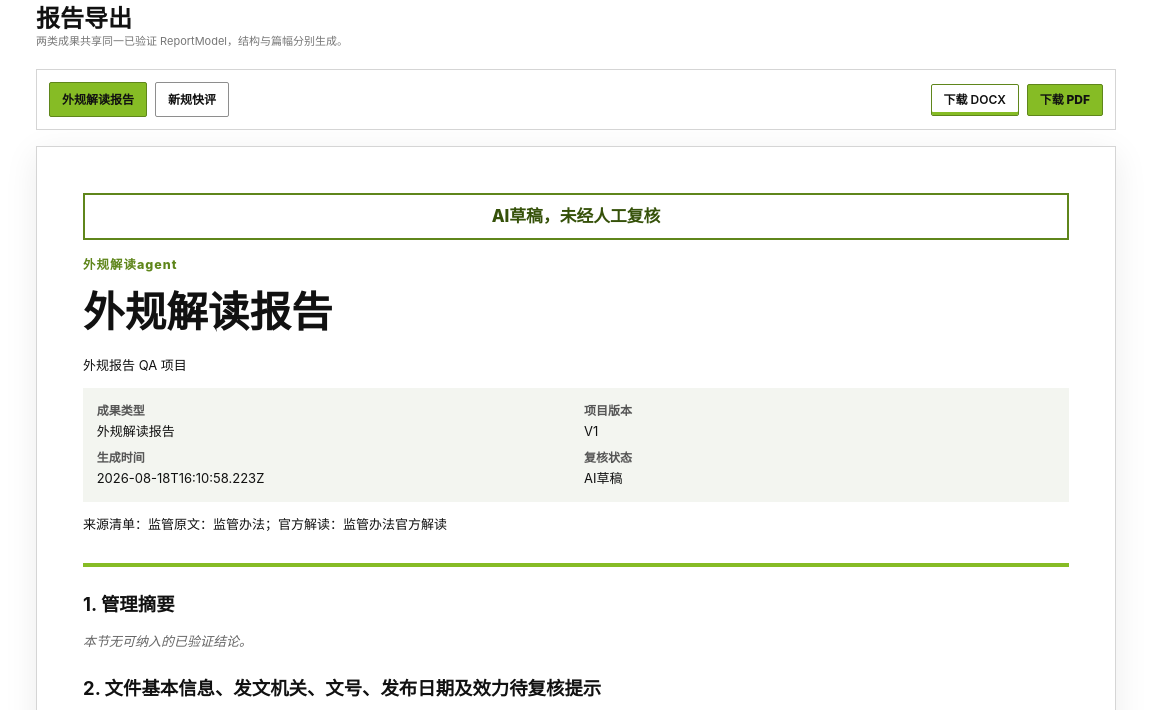
Test: keeps insufficient quick content visible but fails quick export closed
The image size is (1152, 710).
expect the button "下载 DOCX" is enabled: met, box [931, 84, 1019, 116]
Click the tab "新规快评" at (192, 100), box [155, 82, 229, 117]
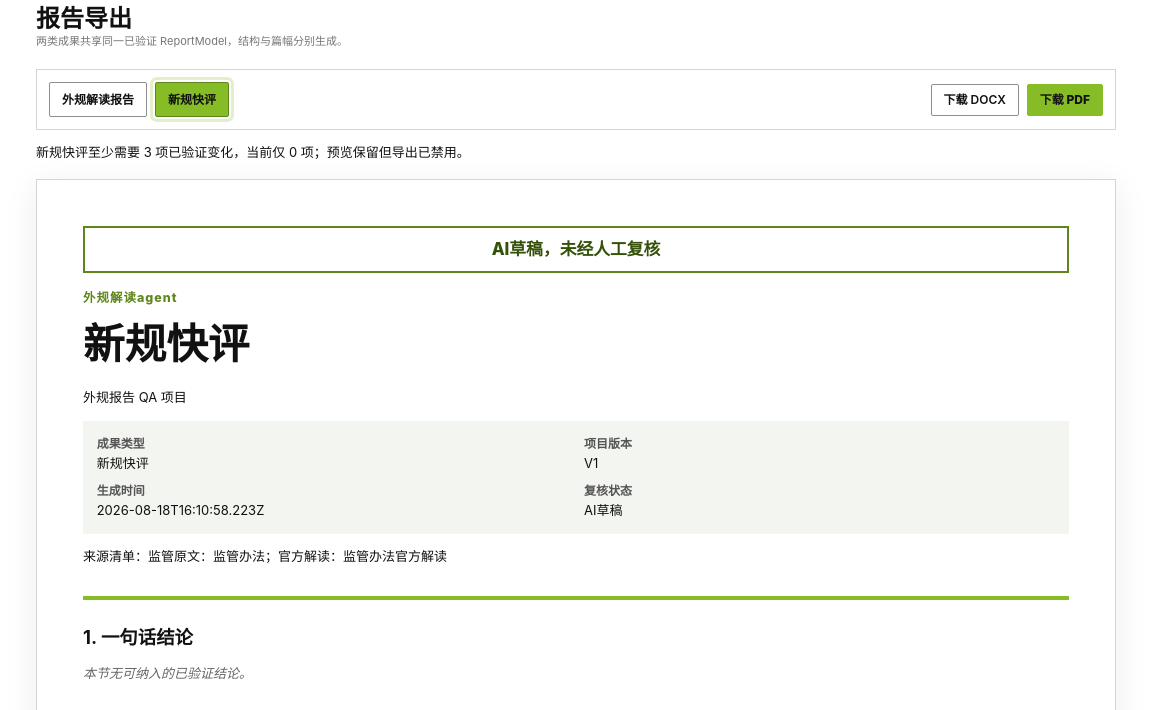
expect the button "下载 PDF" is disabled: met, box [1027, 84, 1103, 116]
expect the text "新规快评至少需要 3 项已验证变化，当前仅 0 项；预览保留但导出已禁用。" is shown: met, box [36, 144, 470, 160]
expect the button "下载 DOCX" is disabled: met, box [931, 84, 1019, 116]
